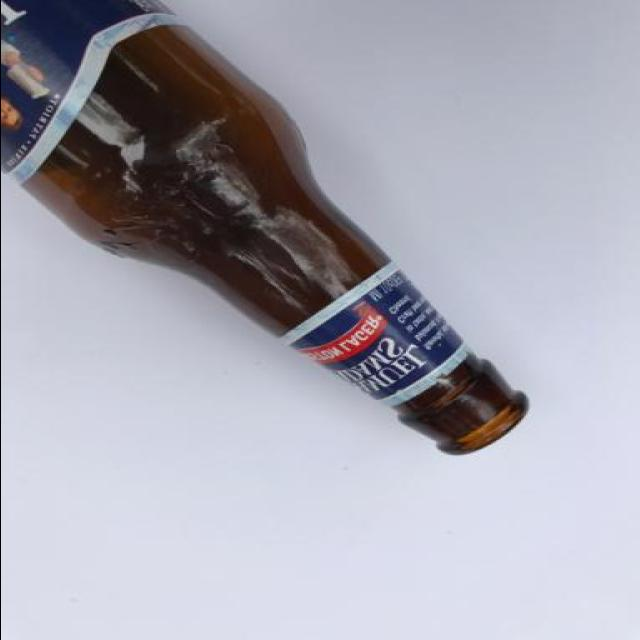glass: (0, 1, 532, 455)
